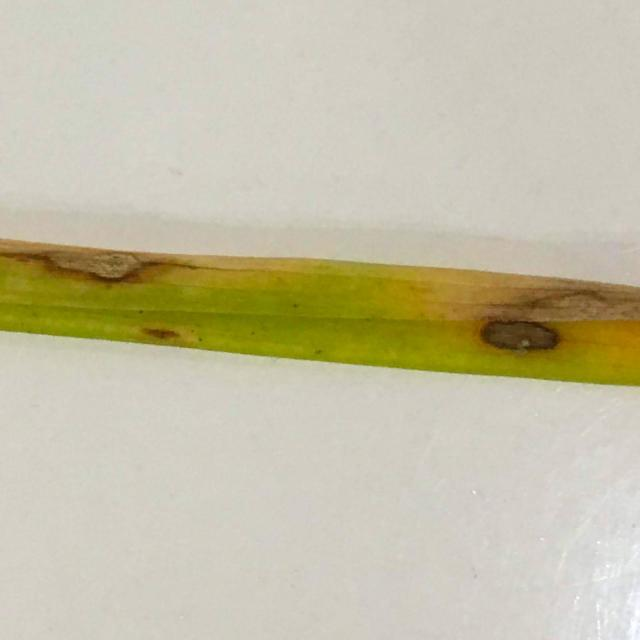Leaf blast: (0, 203, 640, 445)
